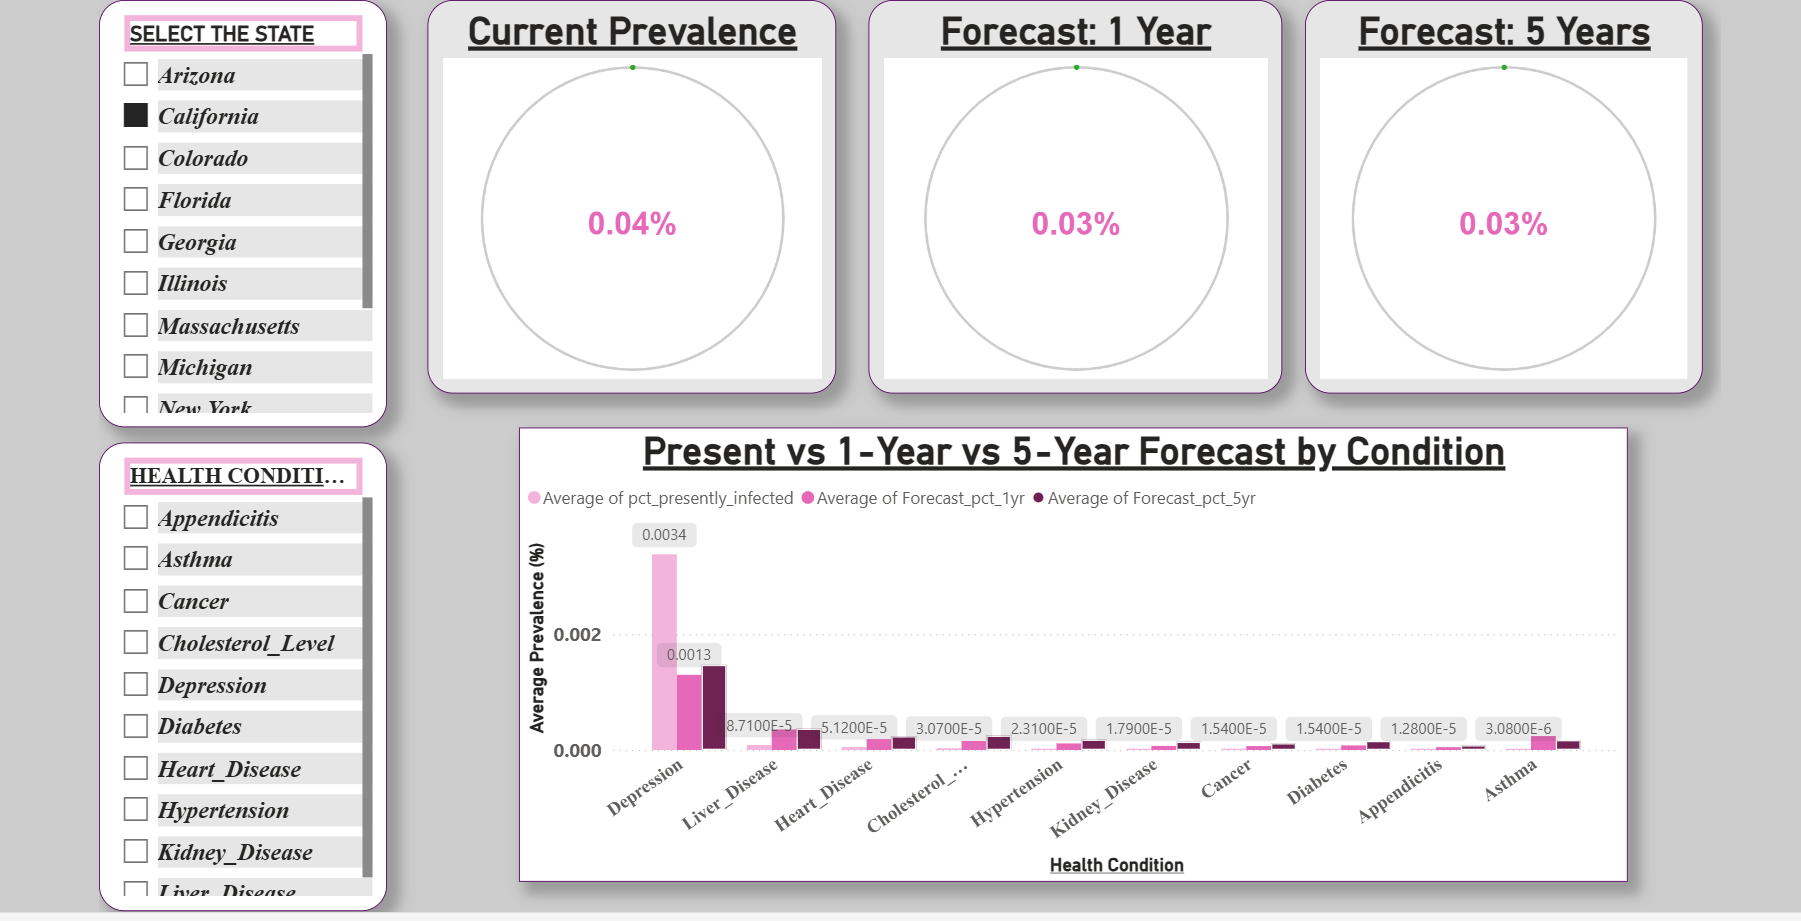

The page's visual inventory and layout, read from the dashboard file:
{"tool":"powerbi","page":{"name":"Page 1","canvas":[1280,720],"ordinal":0},"visuals":[{"type":"slicer","fields":{"Values":["final_predictions_disease prevalence 1.State"]},"box":[0,0,227.5,337.4],"z":0},{"type":"slicer","fields":{"Values":["final_predictions_disease prevalence 1.Health_Condition"]},"box":[0,349.9,227.5,370.3],"z":1000},{"type":"payPalKPIDonutChart55A431AB15A540ED924ACD72ED8D259F","title":"Current Prevalence","fields":{"myvalue":["Avg(final_predictions_disease prevalence 1.pct_presently_infected)"]},"box":[257.3,0,323.2,310.7],"z":2000},{"type":"payPalKPIDonutChart55A431AB15A540ED924ACD72ED8D259F","title":"Forecast: 1 Year","fields":{"myvalue":["Avg(final_predictions_disease prevalence 1.Forecast_pct_1yr)"]},"box":[607.2,0,326.4,310.7],"z":2001},{"type":"payPalKPIDonutChart55A431AB15A540ED924ACD72ED8D259F","title":"Forecast: 5 Years","fields":{"myvalue":["Avg(final_predictions_disease prevalence 1.Forecast_pct_5yr)"]},"box":[952.4,0,313.8,310.7],"z":2002},{"type":"clusteredColumnChart","title":"Present vs 1-Year vs 5-Year Forecast by Condition","fields":{"Category":["final_predictions_disease prevalence 1.Health_Condition"],"Y":["Avg(final_predictions_disease prevalence 1.pct_presently_infected)","Avg(final_predictions_disease prevalence 1.Forecast_pct_1yr)","Avg(final_predictions_disease prevalence 1.Forecast_pct_5yr)"]},"box":[332,337.3,875.2,358.6],"z":2003}]}

Visuals, with their boxes in screenshot pixels (x1, y1, x2, y2):
slicer - final_predictions_disease prevalence 1.State: pyautogui.locateOnScreen(89, 42, 365, 452)
slicer - final_predictions_disease prevalence 1.Health_Condition: pyautogui.locateOnScreen(89, 467, 365, 917)
"Current Prevalence" payPalKPIDonutChart55A431AB15A540ED924ACD72ED8D259F: pyautogui.locateOnScreen(402, 42, 794, 420)
"Forecast: 1 Year" payPalKPIDonutChart55A431AB15A540ED924ACD72ED8D259F: pyautogui.locateOnScreen(827, 42, 1223, 420)
"Forecast: 5 Years" payPalKPIDonutChart55A431AB15A540ED924ACD72ED8D259F: pyautogui.locateOnScreen(1246, 42, 1627, 420)
"Present vs 1-Year vs 5-Year Forecast by Condition" clusteredColumnChart: pyautogui.locateOnScreen(492, 452, 1555, 887)
